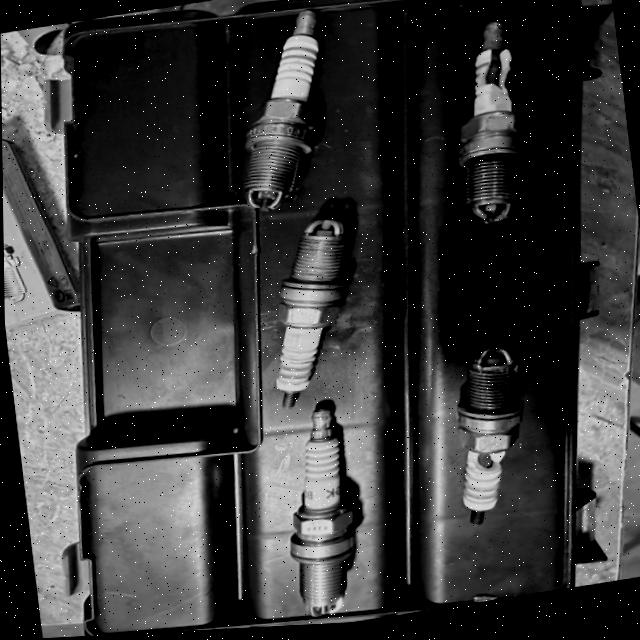damaged_spark-plug: (420, 346, 543, 542), (431, 22, 537, 243)
spark-plug: (222, 12, 337, 217), (252, 217, 369, 416), (270, 404, 369, 622)
